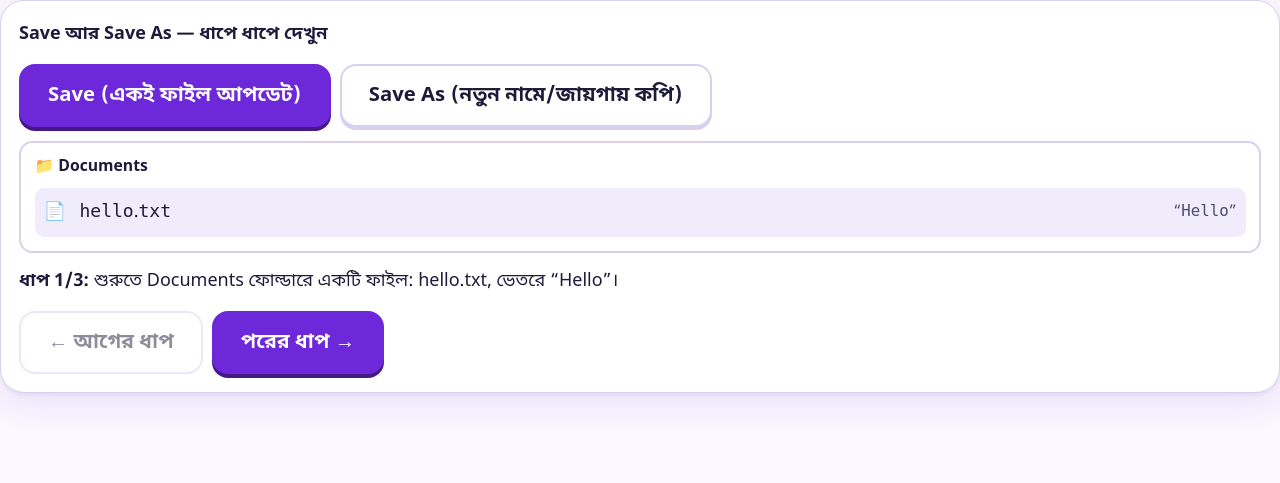
widgets › SaveVsSaveAs steps through and switches mode
This screenshot has width=1280, height=483.
Click the button "পরের ধাপ →" at (298, 342), box [212,311,384,374]
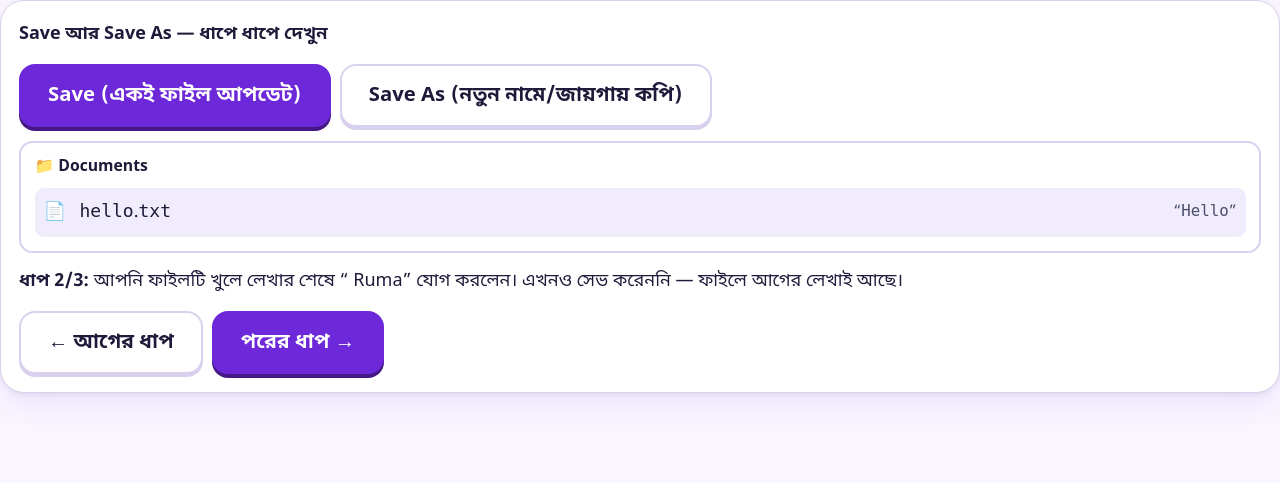
Click the button "পরের ধাপ →" at (298, 342), box [212,311,384,374]
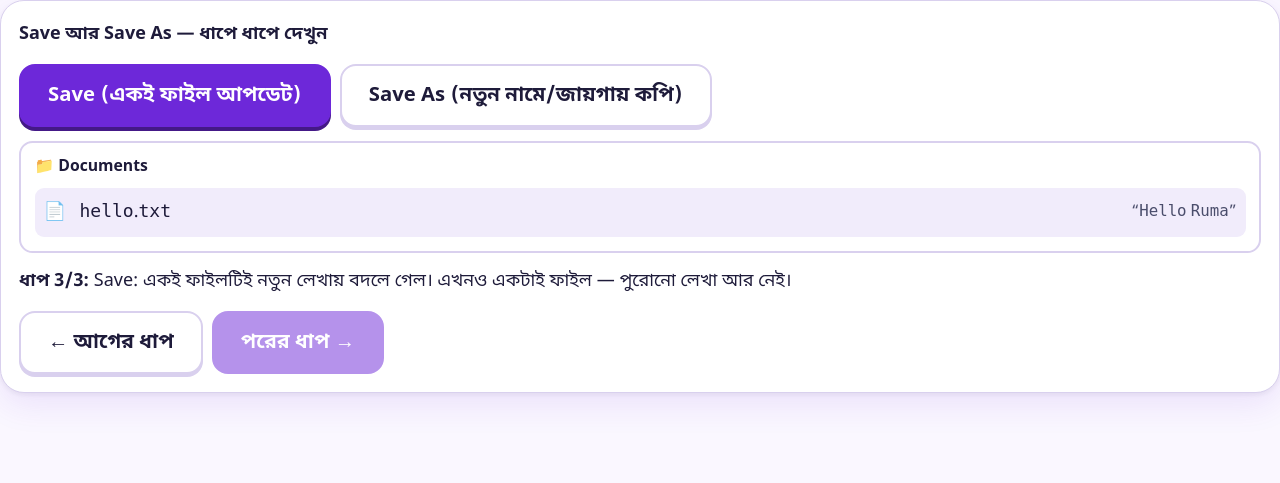
Expected: the text "hello.txt" is shown once, [80,196,171,228]
Click the button "Save As (নতুন নামে/জায়গায় কপি)" at (526, 96), box [340,64,712,127]
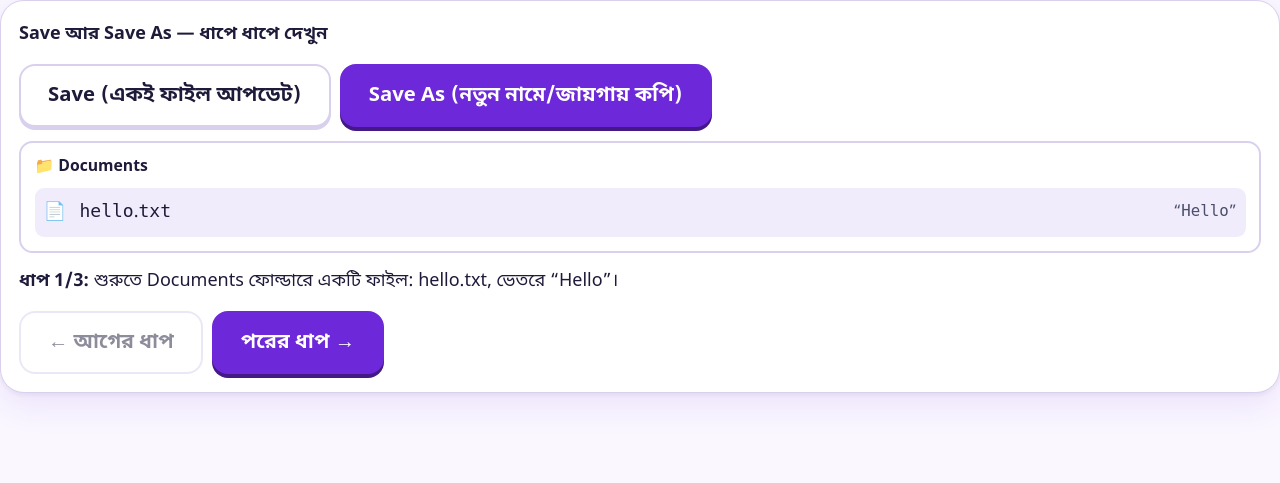
Click the button "পরের ধাপ →" at (298, 342), box [212,311,384,374]
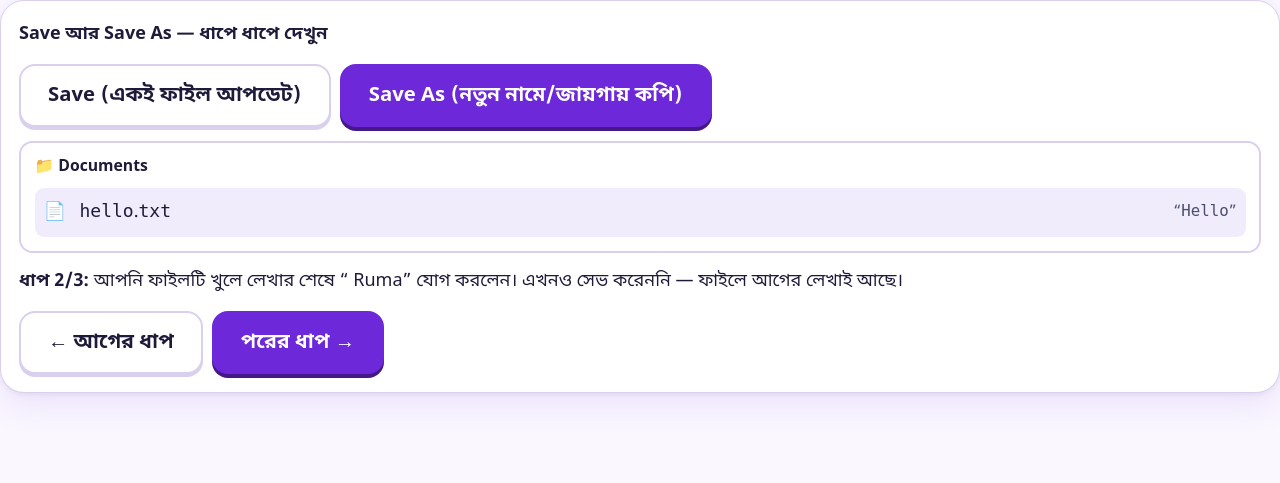
Click the button "পরের ধাপ →" at (298, 342), box [212,311,384,374]
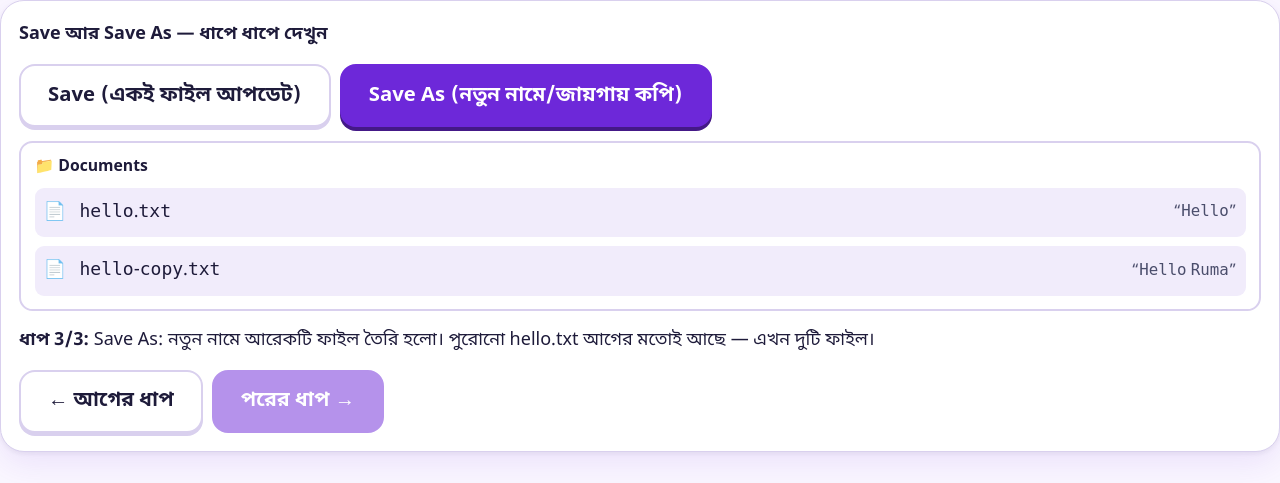
Expected: the text "hello-copy.txt" is shown, [80,255,220,286]
